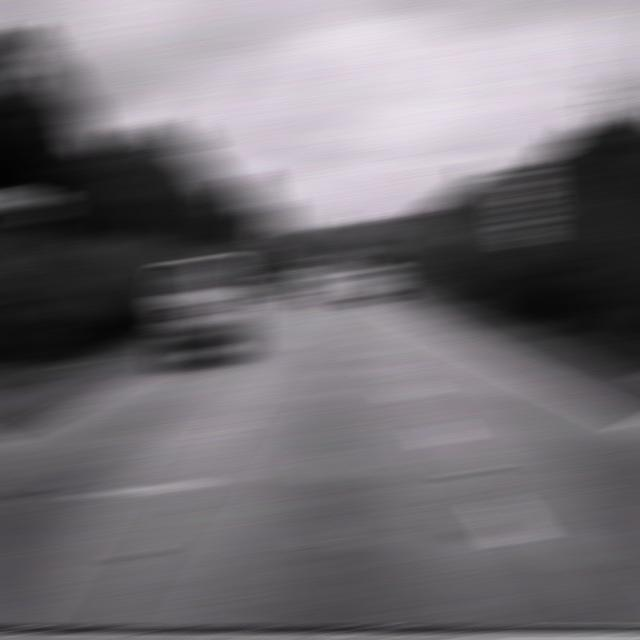speedLimit65: (500, 170, 550, 227)
